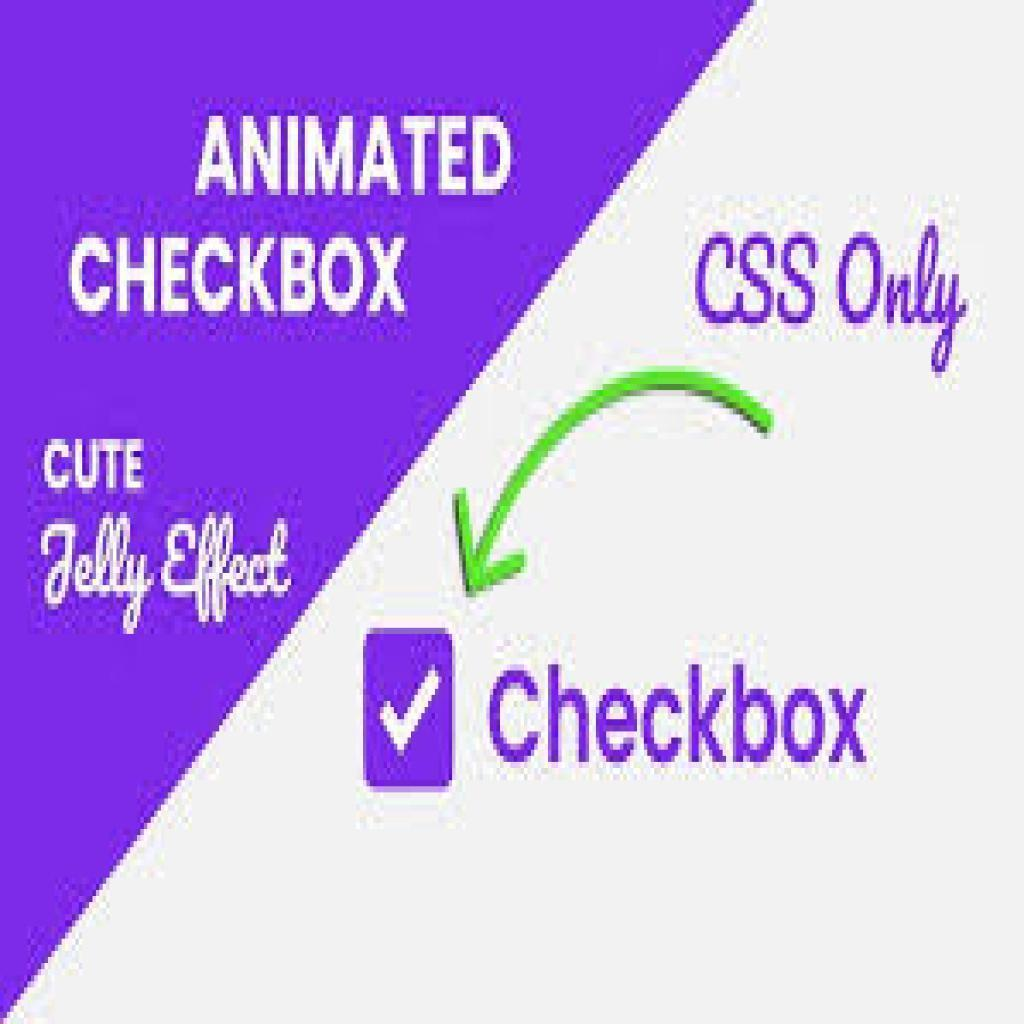checkbox: (364, 629, 456, 793)
label: (487, 658, 874, 771)
